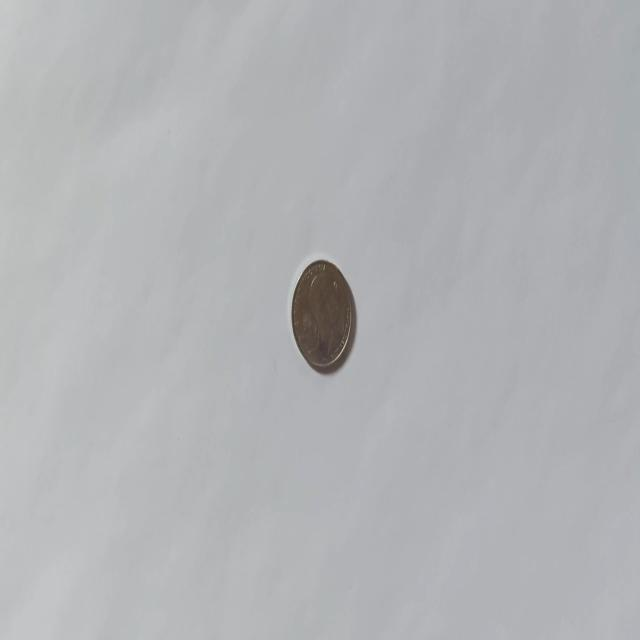seribu rupiah koin: (290, 255, 354, 374)
